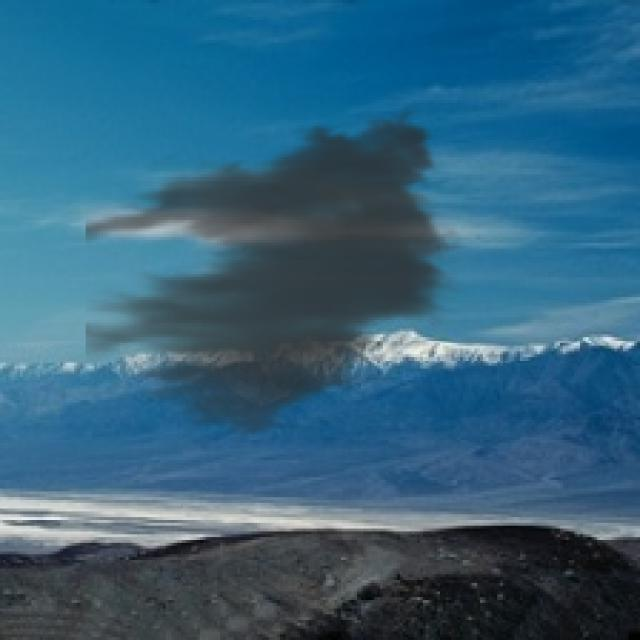Smoke: (86, 100, 468, 446)
